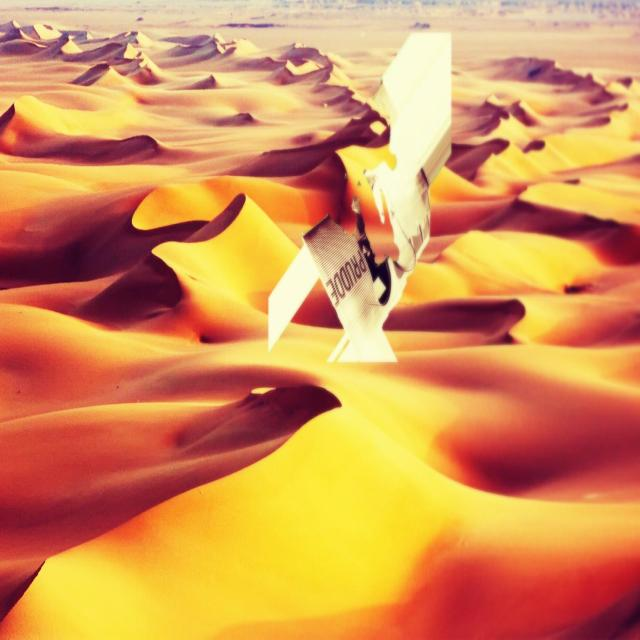airplane: (266, 30, 452, 365)
